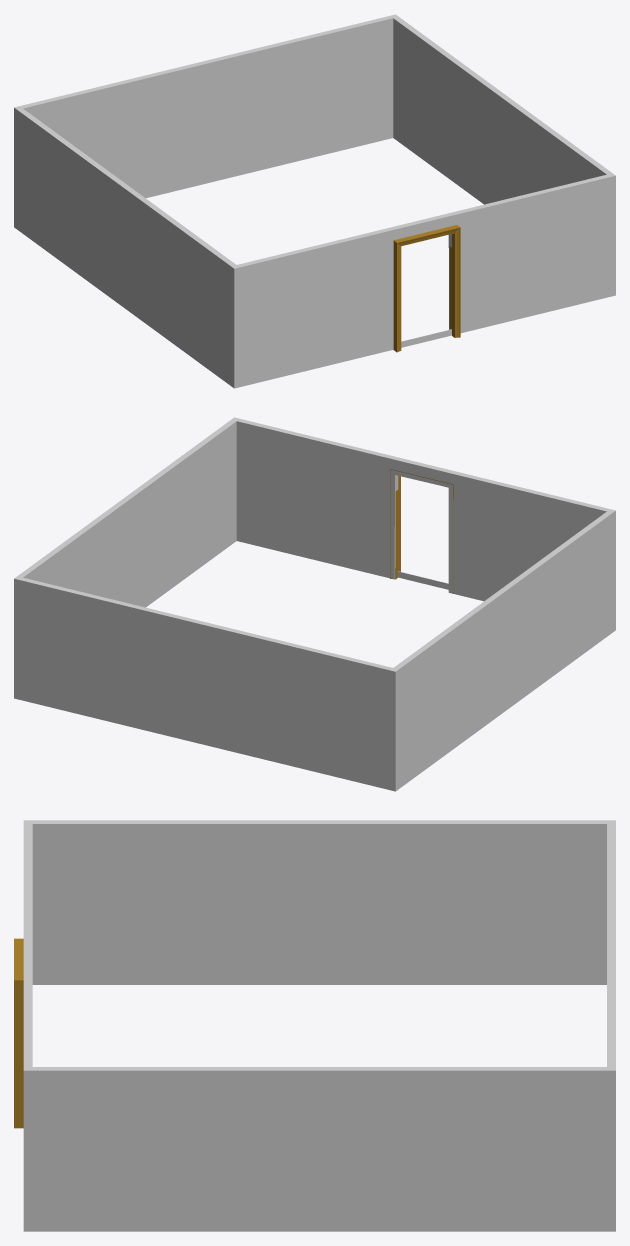
The model's file is archimeshattempt6.fbx.
3 renders of one model, top to bottom at view 1: azimuth 30°, elevation 25°; view 2: azimuth 150°, elevation 25°; view 3: azimuth 270°, elevation 25°, orthographic. The views are drawn at different scales.
Visible parts, largest first — view 1: Room, Cube.010, Baseboard; view 2: Room, Baseboard, Cube.010; view 3: Room, Cube.010, Baseboard.
Boxes of the visible parts, left/top/right/bottom form: Room: left=14, top=14, right=615, bottom=388; Cube.010: left=393, top=225, right=460, bottom=352; Baseboard: left=14, top=222, right=613, bottom=388; Room: left=14, top=417, right=615, bottom=791; Baseboard: left=14, top=571, right=615, bottom=790; Cube.010: left=390, top=469, right=453, bottom=593; Room: left=23, top=820, right=615, bottom=1231; Cube.010: left=14, top=938, right=23, bottom=1128; Baseboard: left=24, top=1223, right=615, bottom=1231.
Size of the model in its own units: 800 by 241 by 813.
